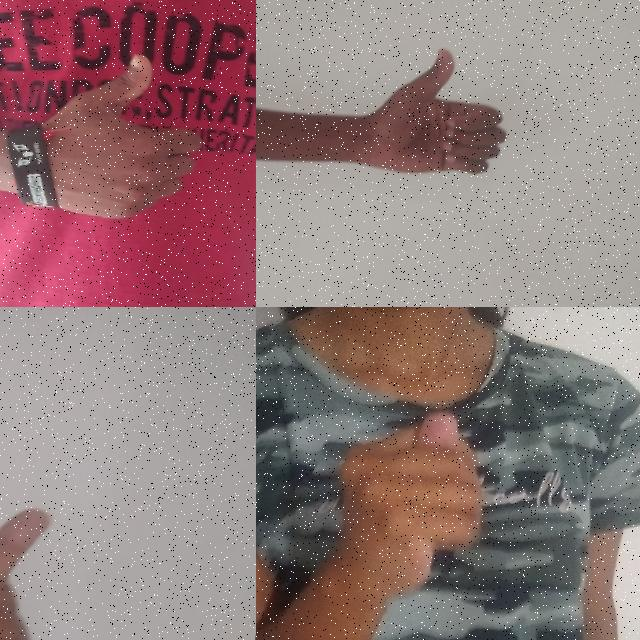Dulya: (320, 391, 499, 640)
Thumbs Up: (0, 42, 214, 232), (329, 34, 522, 208), (0, 491, 64, 640)
